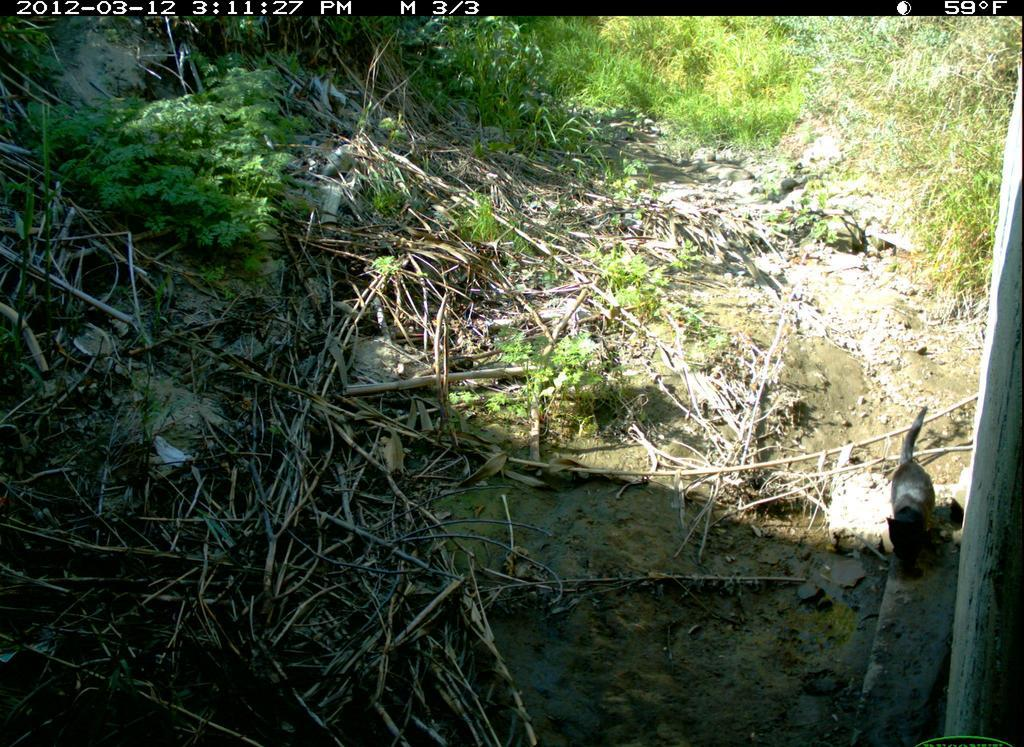cat: (888, 405, 941, 584)
